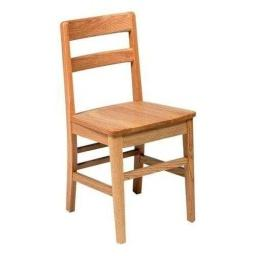Chair: (59, 13, 197, 244)
